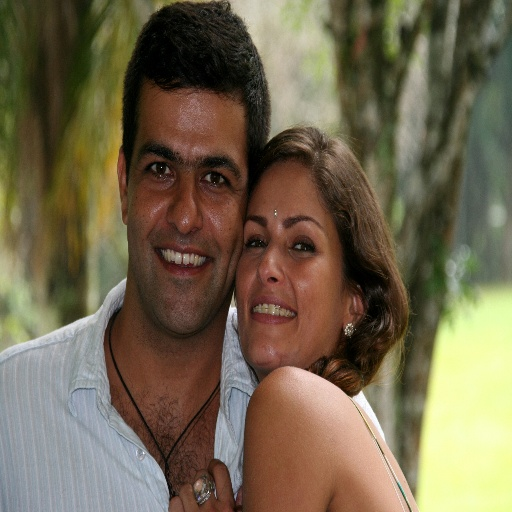hand: (166, 454, 243, 511)
